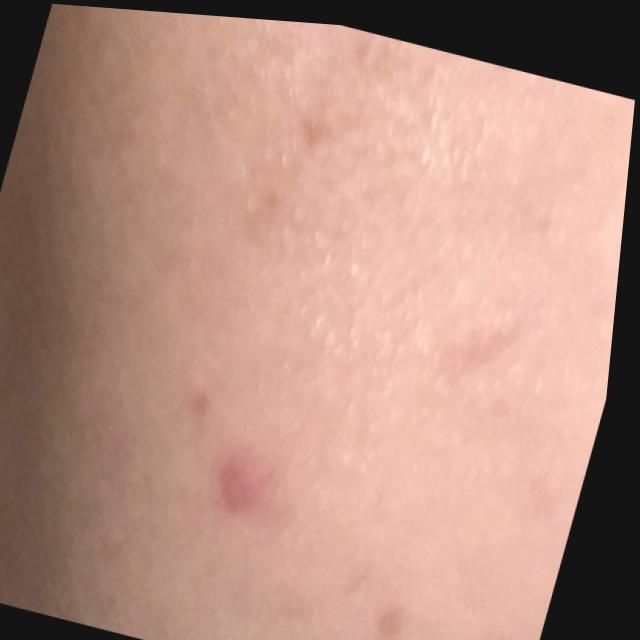papule: (179, 337, 319, 592)
